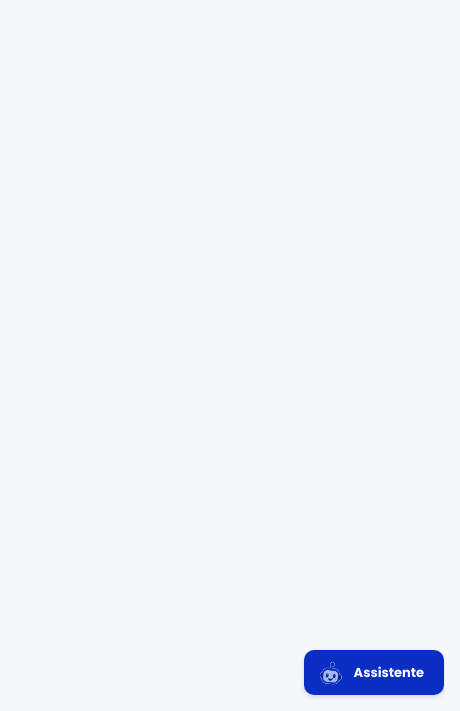
it: contrato do chat integrado › digita uma resposta de Notas sem desmontar a lista nem duplicar o texto acessível
Click the button "Assistente" at (374, 672), box [304,650,444,695]
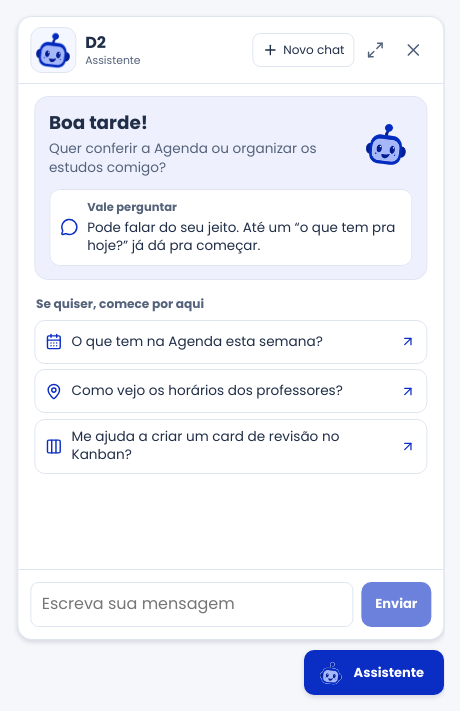
Type "Qual é minha maior nota?" into the text box labelled "sua mensagem" at (192, 604), box [30,582,354,627]
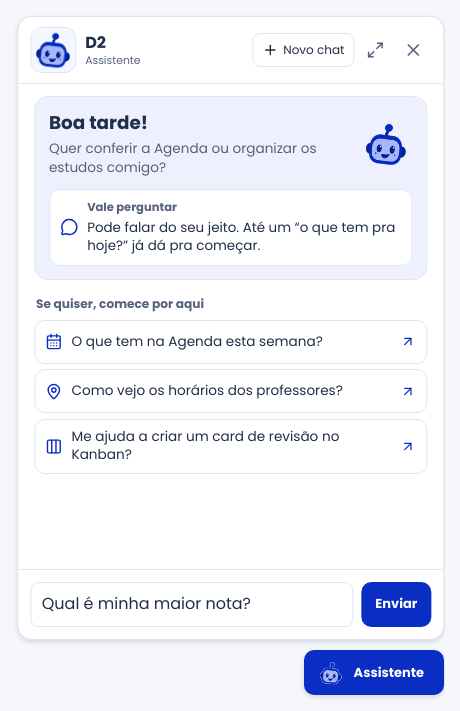
Click the button "Enviar" at (396, 604), box [362,582,431,627]
Wait 3950 ms
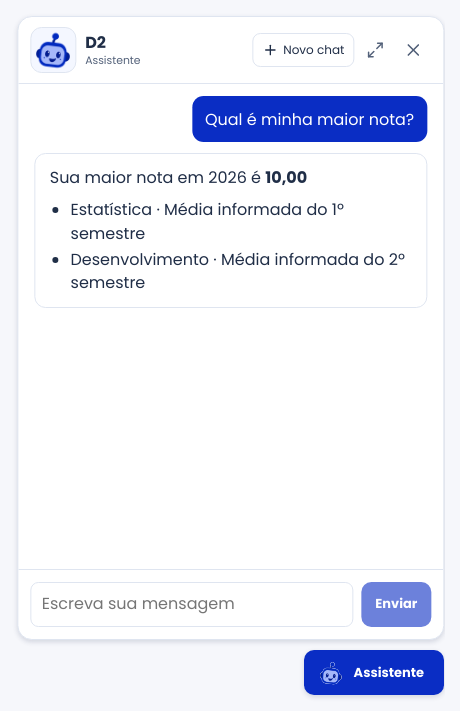
Check: the number of list items is 2, box [70,198,344,244]; [70,248,412,294]
Click the button named "Fechar assistente" at (414, 50), box [397,33,431,67]
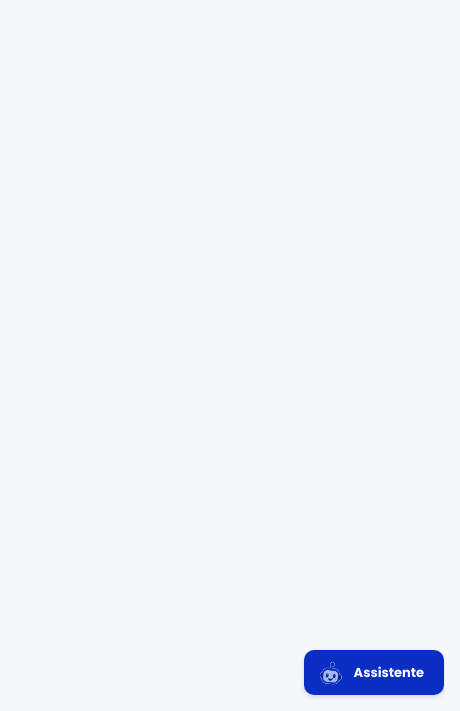
Click the button "Assistente" at (374, 672), box [304,650,444,695]
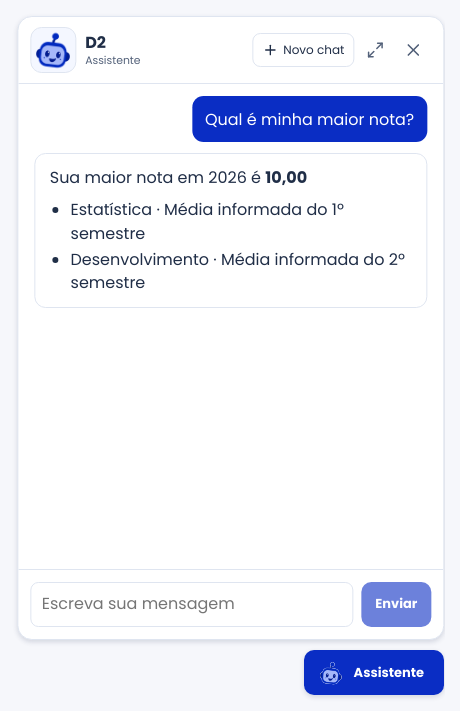
Check: the number of list items is 2, box [70,198,344,244]; [70,248,412,294]
